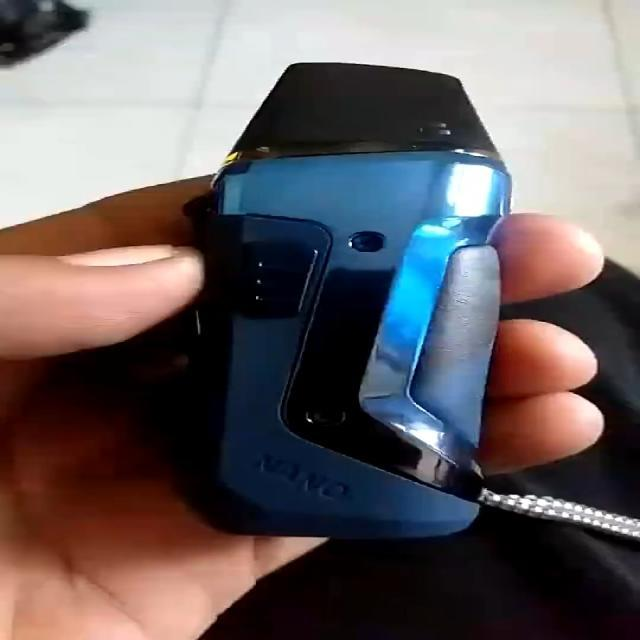Hazard: (187, 60, 516, 535)
